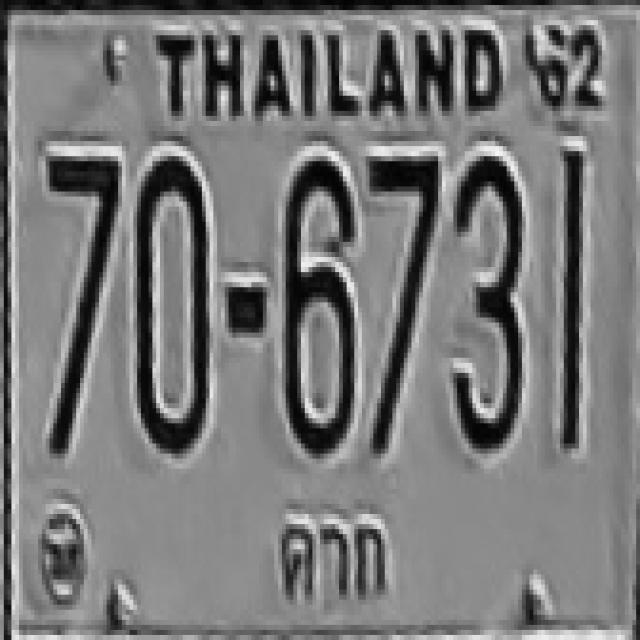0: (133, 156, 210, 454)
1: (560, 144, 583, 406)
3: (449, 154, 522, 451)
6: (282, 156, 354, 454)
7: (366, 151, 438, 454), (46, 154, 118, 456), (366, 151, 438, 423), (46, 151, 118, 418), (366, 151, 438, 348), (48, 154, 120, 350), (366, 151, 438, 328), (46, 151, 118, 328)
Tak: (269, 504, 401, 606)
